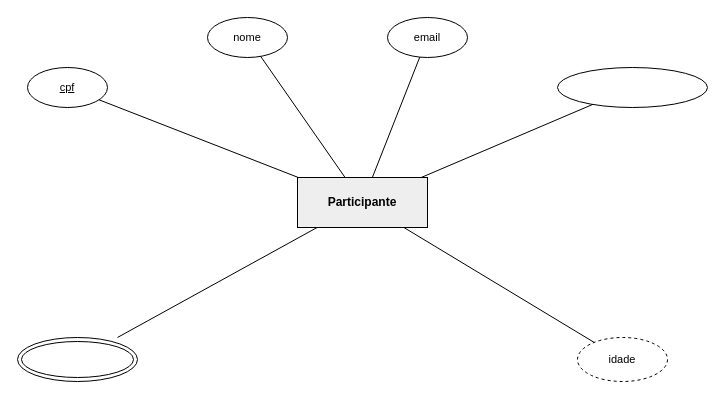
The diagram is 725 pixels wide and 399 high, and some of its shapes have lost their labels. Here are the shapes that lost their labels. From the top down, the centre of each, then its label:
At point (632, 87): "data_nascimento".
At point (77, 359): "telefone".
